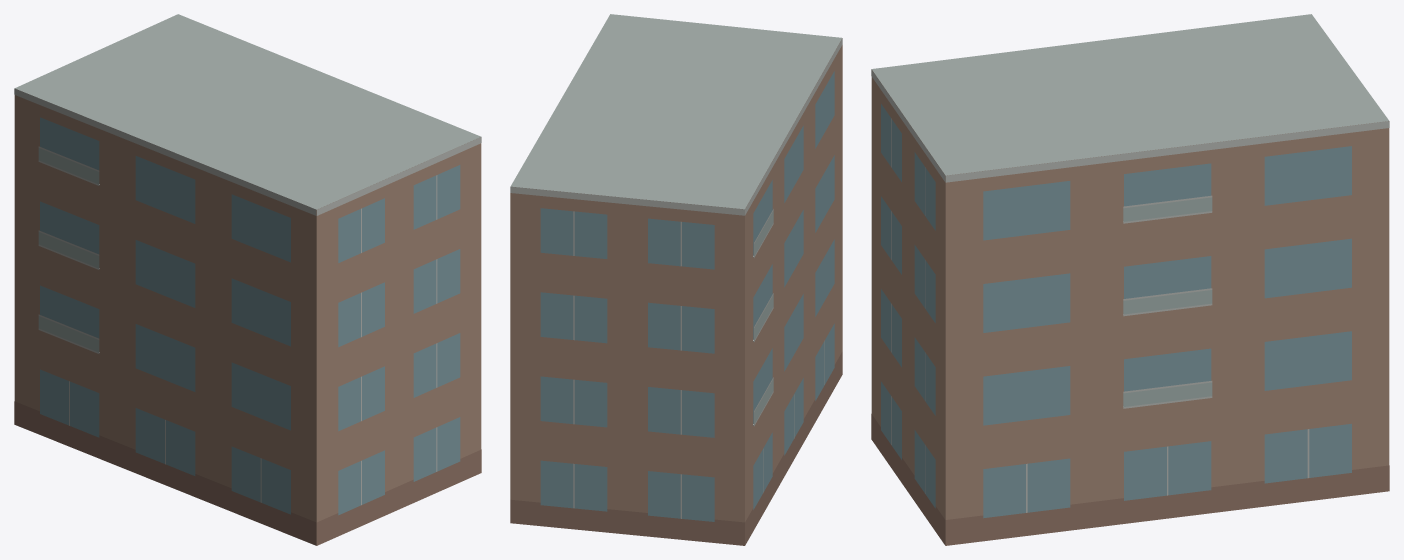
The model's file is survey-upis-32709721.glb.
3 views of the same model, side by side, from view 1: azimuth 30°, elevation 25°; view 2: azimuth 150°, elevation 25°; view 3: azimuth 270°, elevation 25° (orthographic). The views are drawn at different scales.
Visible parts, largest first — view 1: survey-upis-32709721.tmp; view 2: survey-upis-32709721.tmp; view 3: survey-upis-32709721.tmp.
Part boxes in pixels (left/top/right/bottom): survey-upis-32709721.tmp: left=14, top=14, right=481, bottom=545; survey-upis-32709721.tmp: left=510, top=14, right=842, bottom=545; survey-upis-32709721.tmp: left=871, top=14, right=1389, bottom=545.
Bounding box in the file's own units: 11.96 × 12.77 × 16.2.
